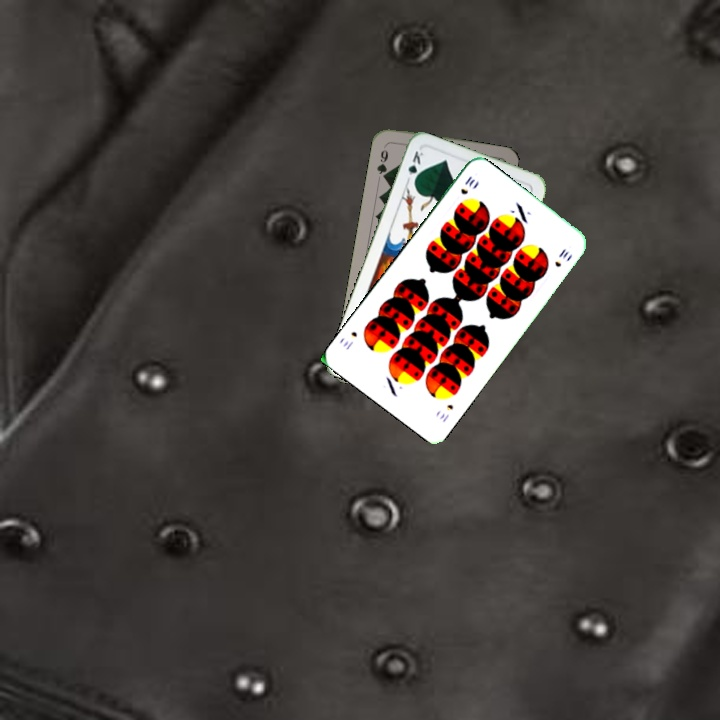G9: (373, 141, 391, 182)
GK: (404, 147, 426, 186)
S10: (457, 172, 478, 197), (435, 400, 456, 425)
